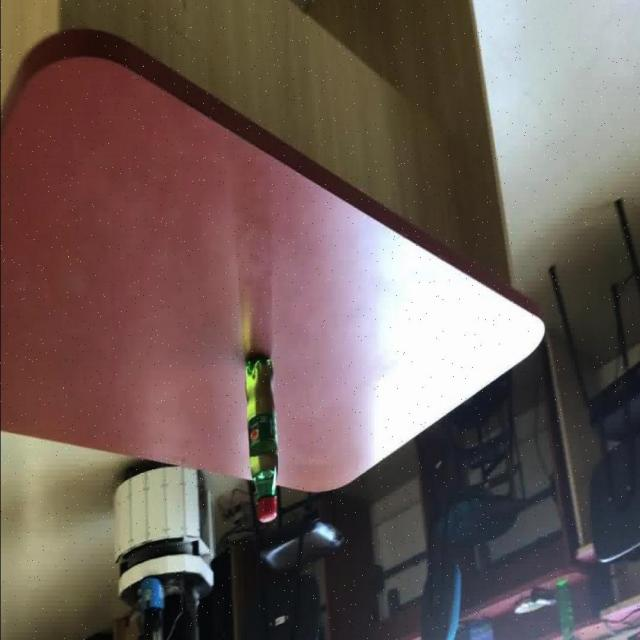Guarana: (0, 26, 546, 505), (244, 351, 280, 523)
